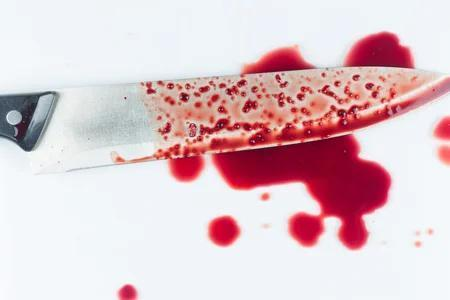Fire: (141, 67, 450, 158), (213, 135, 392, 250), (346, 31, 415, 68), (243, 46, 315, 74), (209, 216, 241, 246), (169, 157, 204, 182), (435, 116, 450, 164), (119, 285, 137, 300)
